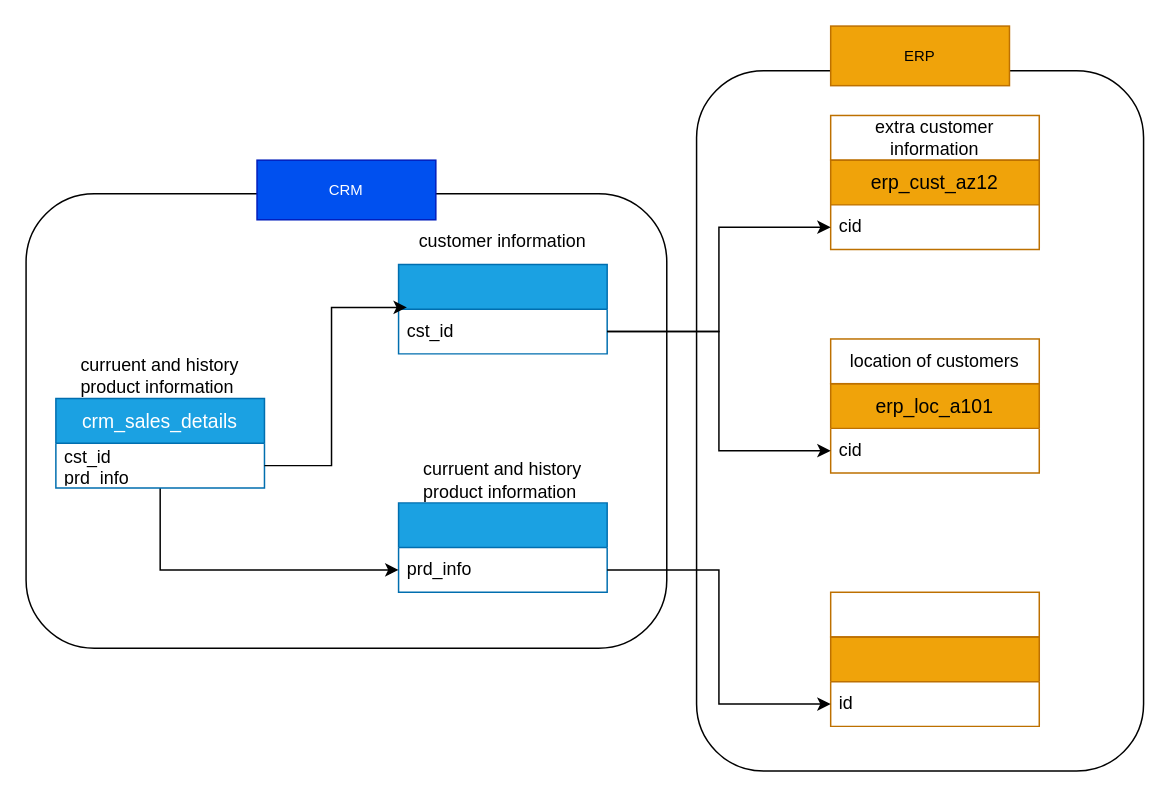
This 1170x797 diagram has some shape labels left out. The shapes that lost their labels are listed below. From the top down, each one's box as (x1, y1, x2, y2) in pixels, then its label:
(397, 263, 607, 354): crm_cst_info
(397, 501, 607, 592): crm_prd_info
(829, 635, 1039, 726): erp_px_cat_g1v2
